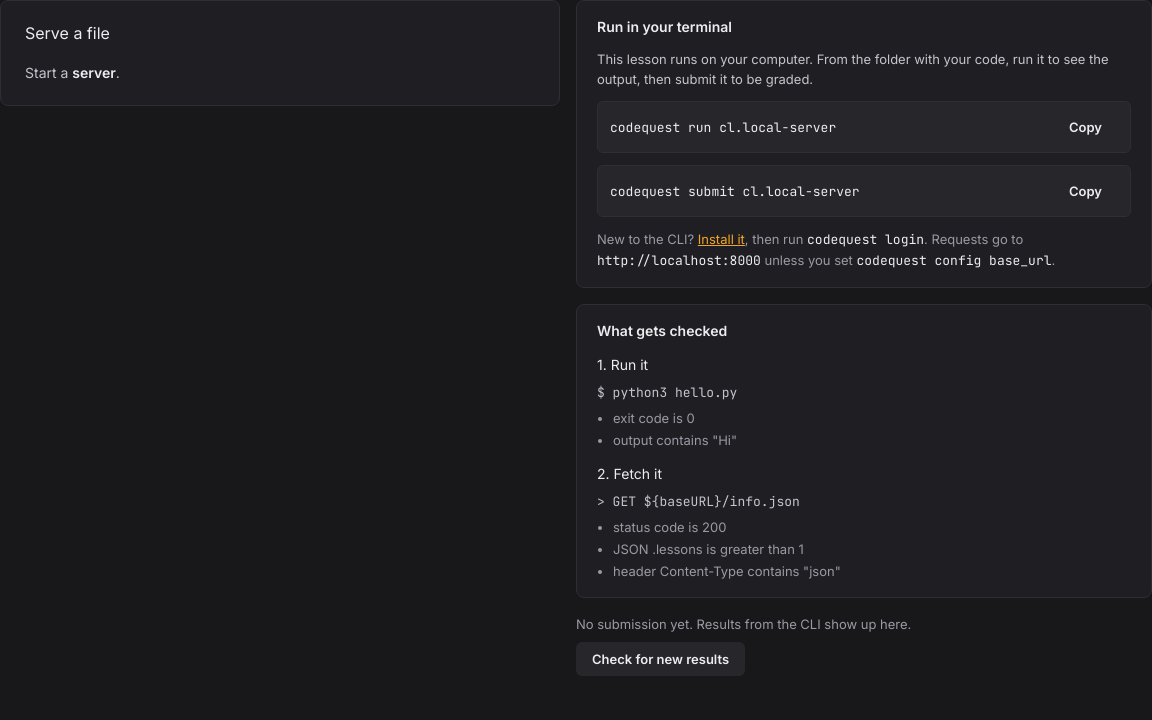
Test case: CliExercise › picks up a result submitted from the terminal
What coordinates should you click on to do the following:
click the button "Check for new results"
I would click on:
 (661, 659)
Its box is [576, 642, 745, 676].
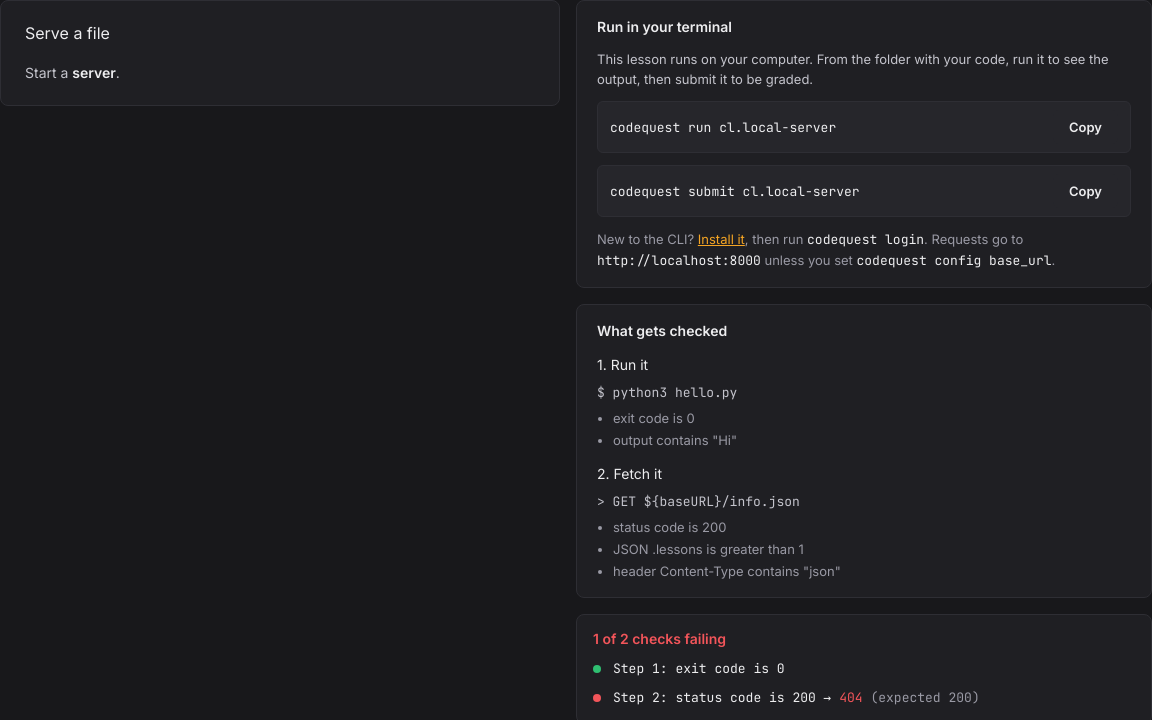
Expected: the heading "1 of 2 checks failing" is shown, [593, 629, 726, 649]
Expected: the text "404" is shown, [839, 689, 863, 706]
